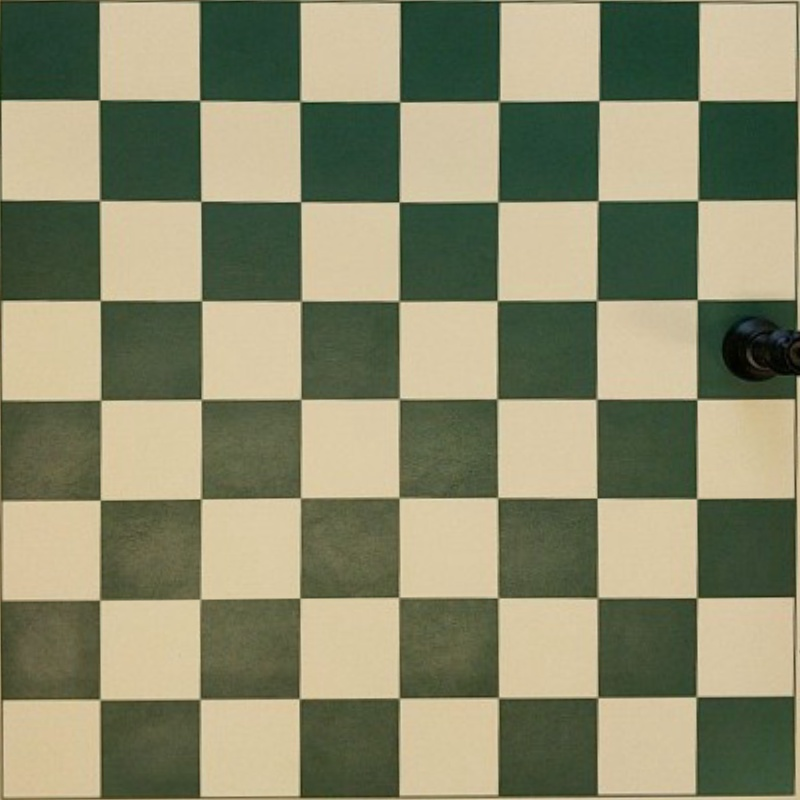black-queen: (724, 315, 800, 381)
